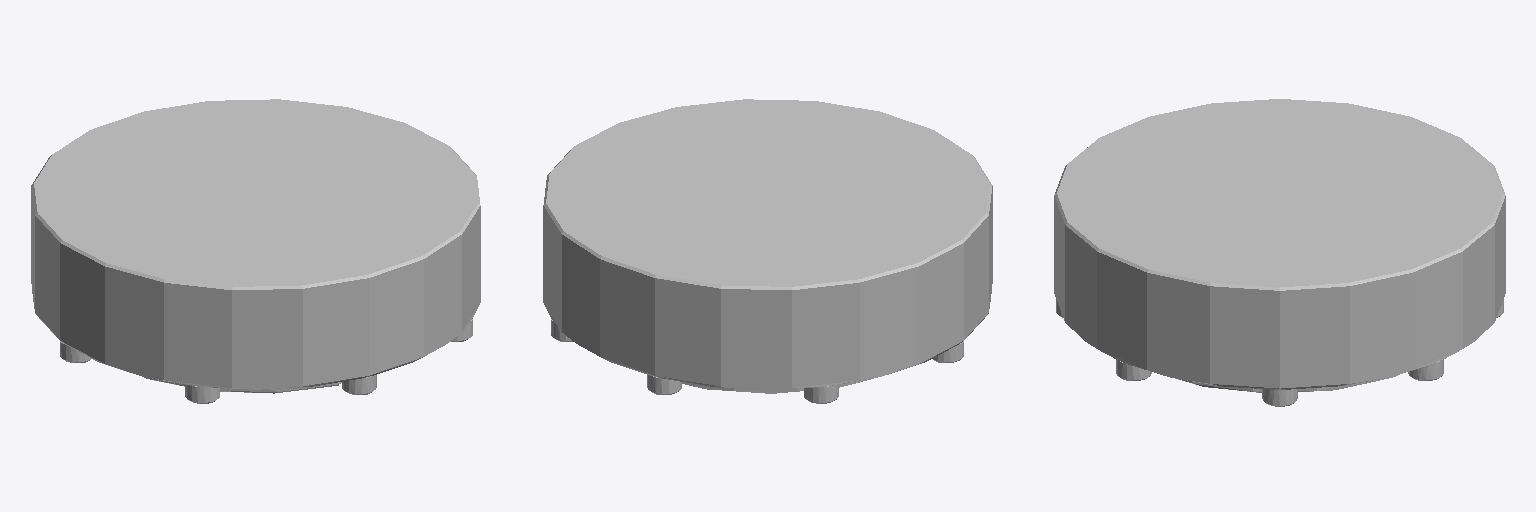
The model's file is irb120joint6.obj.
The picture shows the model from 3 angles: view 1: azimuth 30°, elevation 25°; view 2: azimuth 150°, elevation 25°; view 3: azimuth 270°, elevation 25°; orthographic projection.
Parts seen in each view (by area): view 1: irb120joint6; view 2: irb120joint6; view 3: irb120joint6.
Boxes of the visible parts, x1,y1,x2,y2 form: irb120joint6: [31, 99, 480, 403]; irb120joint6: [543, 99, 992, 403]; irb120joint6: [1054, 99, 1505, 406].
Size of the model in its own units: 3.5 by 1.07 by 3.5.